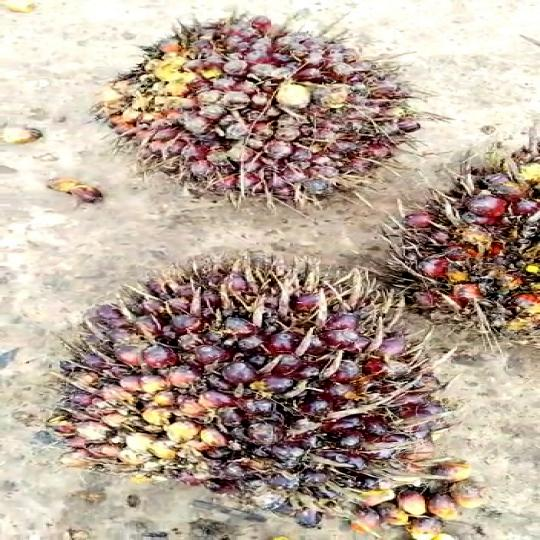masak: (58, 242, 462, 519), (99, 2, 427, 207), (390, 133, 540, 368)
